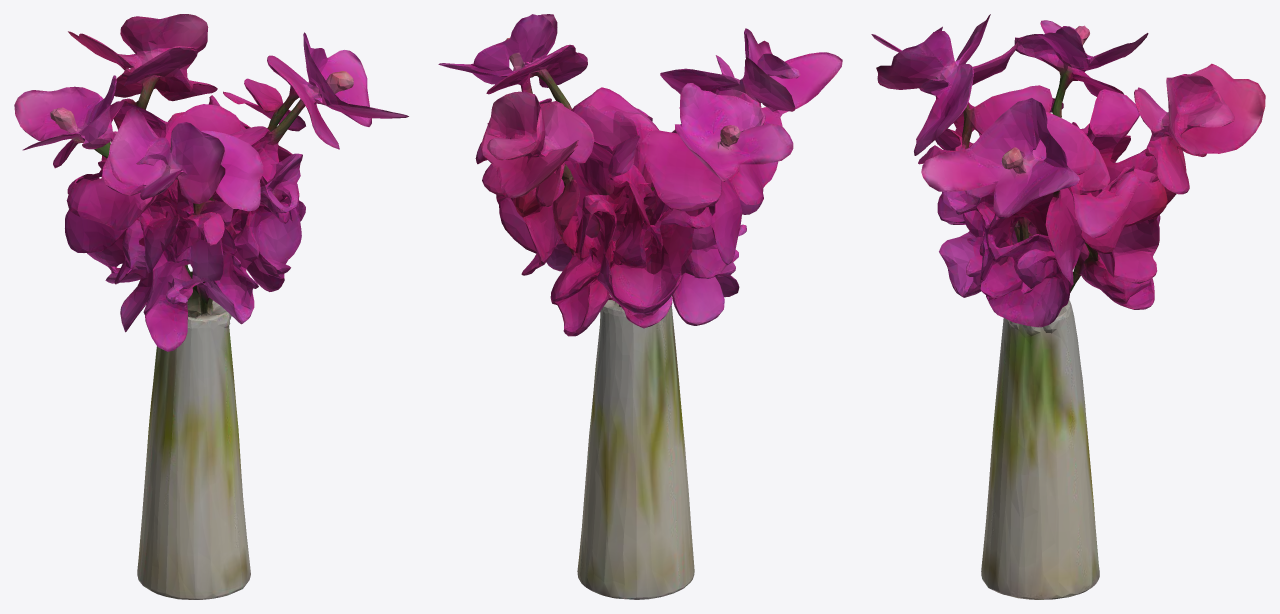
Rendered from glass_vase_with_pink_flowers_000.glb.
3 views of the same model, side by side, from view 1: azimuth 30°, elevation 25°; view 2: azimuth 150°, elevation 25°; view 3: azimuth 270°, elevation 25° (orthographic). The views are drawn at different scales.
Visible parts, largest first — view 1: phase2_final_glass_vase_with_pink_flowers_000.obj; view 2: phase2_final_glass_vase_with_pink_flowers_000.obj; view 3: phase2_final_glass_vase_with_pink_flowers_000.obj.
Boxes of the visible parts, left/top/right/bottom form: phase2_final_glass_vase_with_pink_flowers_000.obj: left=14, top=14, right=408, bottom=599; phase2_final_glass_vase_with_pink_flowers_000.obj: left=438, top=14, right=842, bottom=599; phase2_final_glass_vase_with_pink_flowers_000.obj: left=871, top=14, right=1265, bottom=599.
Bounding box in the file's own units: 0.1733 × 0.2545 × 0.1708.
1 material, 1 textured.
